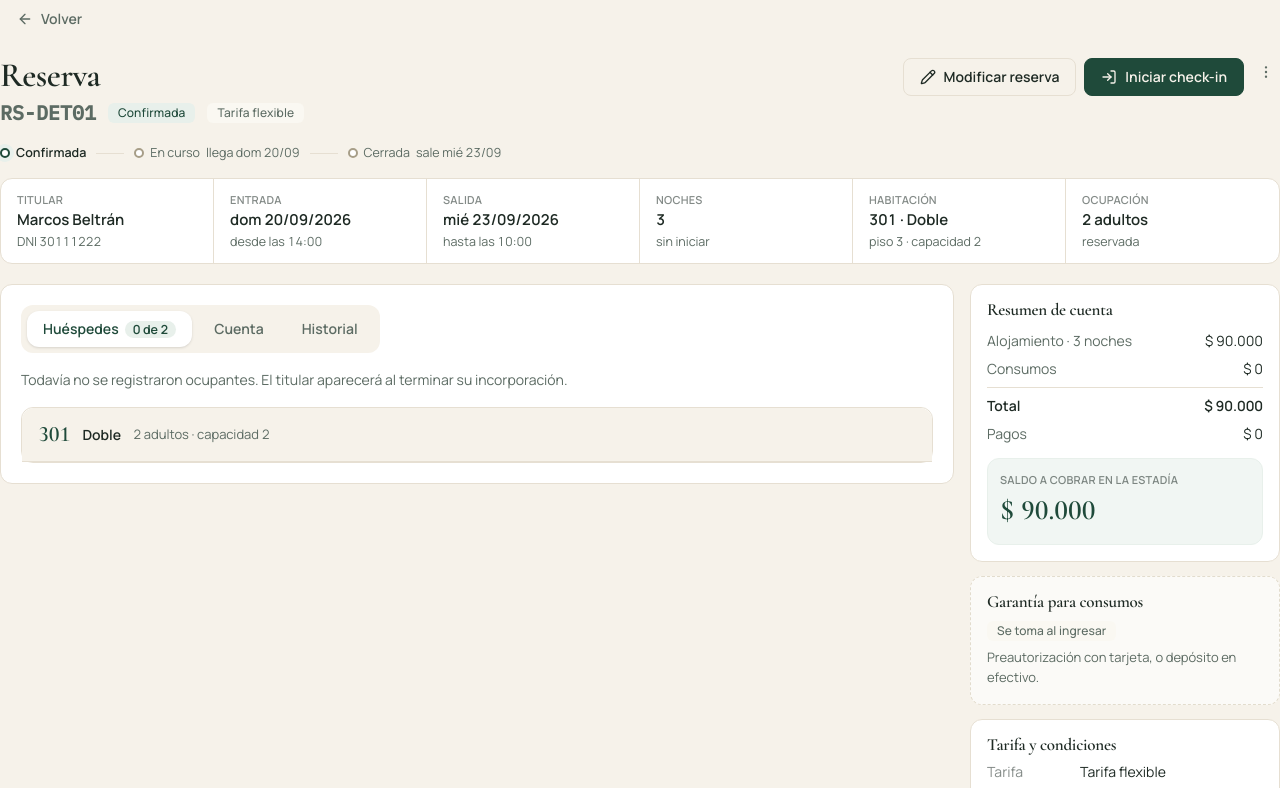
ReservaDetallePage — aviso de la penalidad al cancelar › dentro del plazo: avisa que es sin cargo (la vista previa la pide el backend)
Click the button named "Más acciones de la reserva": (1266, 72) x1=1252 y1=58 x2=1279 y2=86
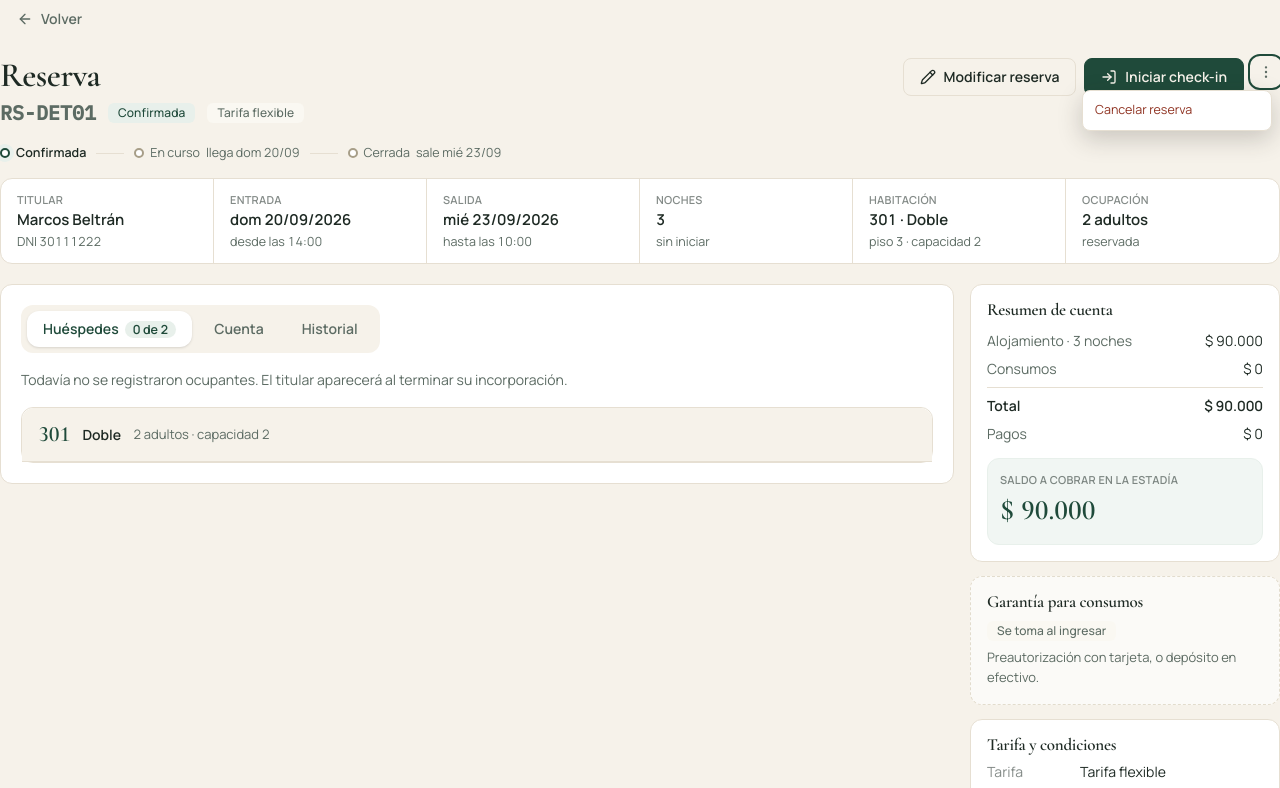
Click the button "Cancelar reserva": (1177, 110) x1=1083 y1=95 x2=1271 y2=126
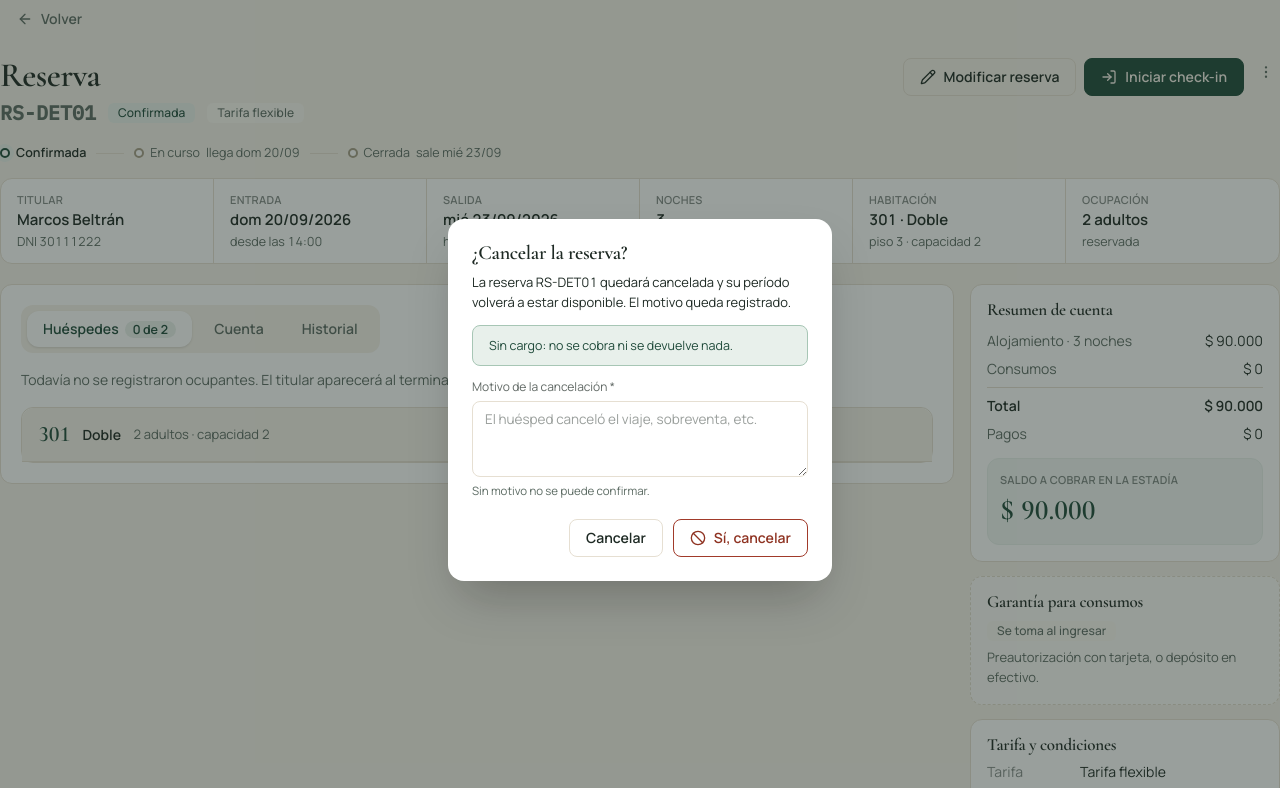
Now the text "Sin cargo: no se cobra ni se devuelve nada." is shown, box x1=489 y1=336 x2=733 y2=354
